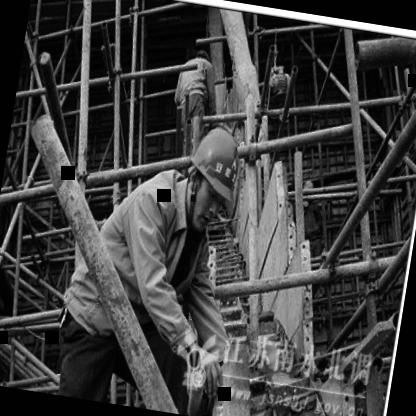helmet: (174, 113, 249, 233)
